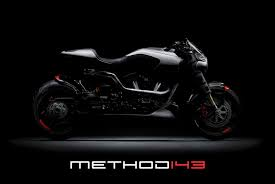motorcycle: (26, 34, 240, 143)
